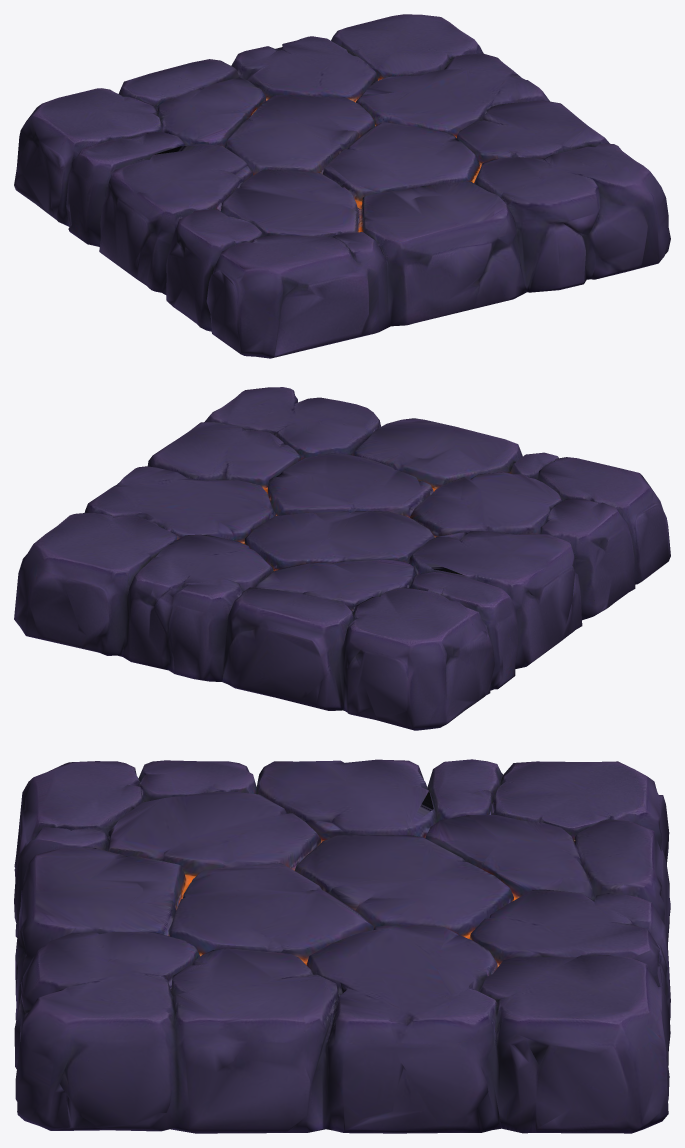
The model's file is baldosa_de_piedra_de_lava_purpura.glb.
3 views of the same model, one above another, from view 1: azimuth 30°, elevation 25°; view 2: azimuth 150°, elevation 25°; view 3: azimuth 270°, elevation 25° (orthographic). The views are drawn at different scales.
Visible parts, largest first — view 1: baldosa_de_piedra_de_lava_purpura; view 2: baldosa_de_piedra_de_lava_purpura; view 3: baldosa_de_piedra_de_lava_purpura.
Boxes of the visible parts, x1,y1,x2,y2 form: baldosa_de_piedra_de_lava_purpura: [14, 14, 670, 358]; baldosa_de_piedra_de_lava_purpura: [14, 387, 670, 730]; baldosa_de_piedra_de_lava_purpura: [14, 759, 670, 1133].
Size of what is drawn, in the model's own units: 1.2 by 0.218 by 1.2.
1 material, 1 textured.
